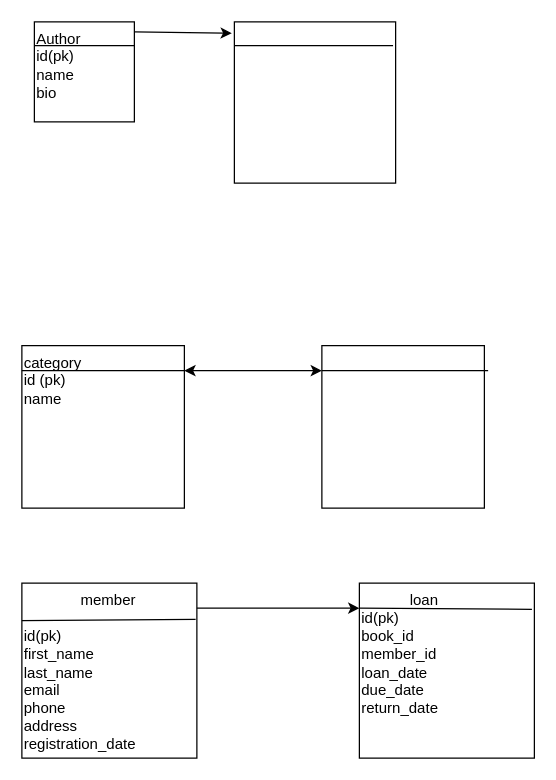
The diagram is 556 pixels wide and 780 high, and some of its shapes have lost their labels. The centre of each missing label's shape, as x and y in pixels:
"Book id (pk) title author_id(fk) publisher publish_year isbn copies_available" belongs at [314,102].
"BookCategory book_id(pk,fk) category_id(pk,fk)" belongs at [402,426].
